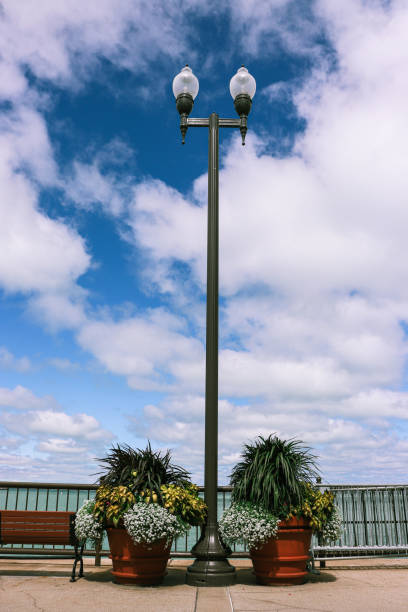light_pole: (202, 114, 225, 582)
